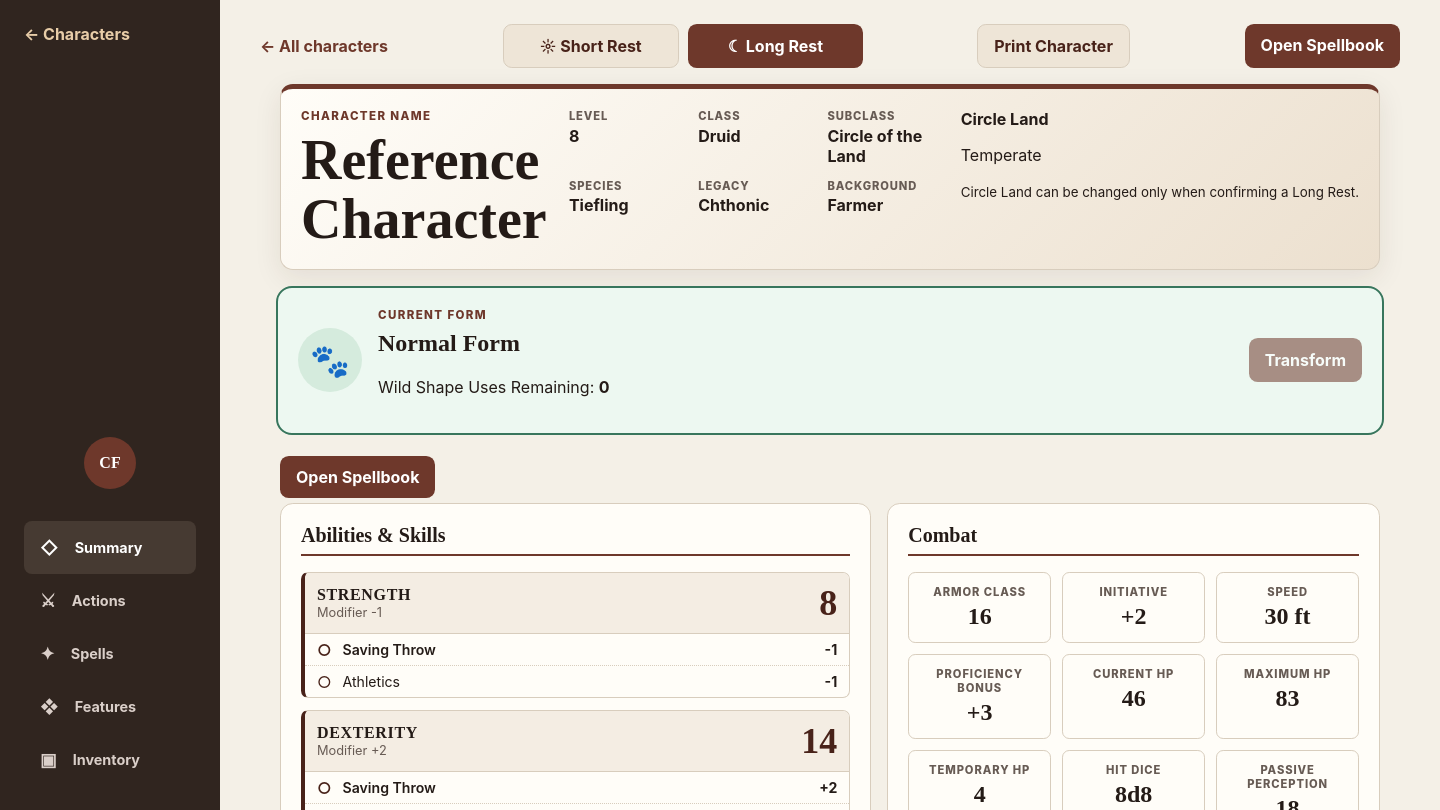
Test: short rest opens preview and supports undo
Click the button "☼ Short Rest" at x=591, y=46, box [502,24,679,68]
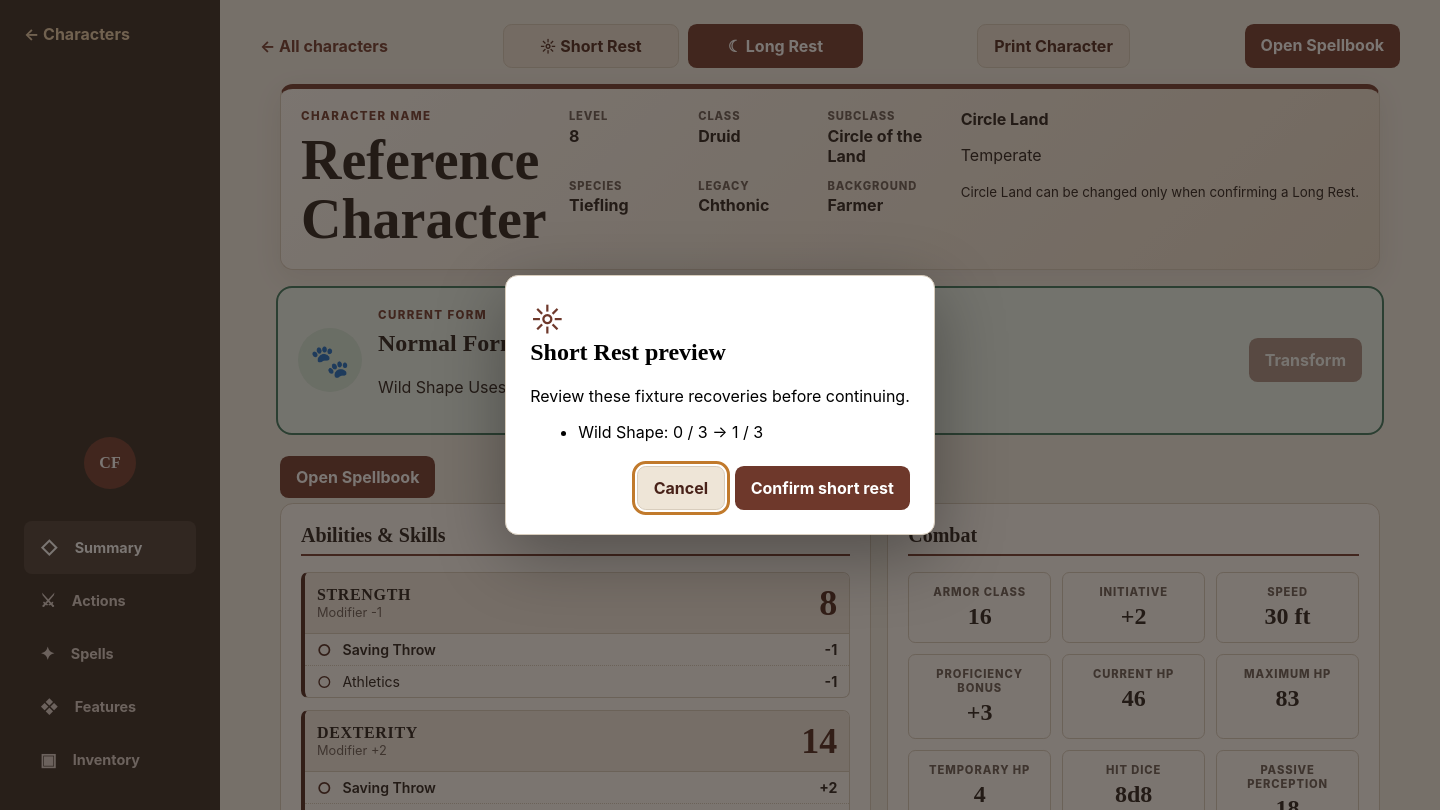
Result: the dialog shows "Short Rest preview" at [530,339,726,365]
Click the button "Confirm short rest" at x=822, y=488, box [735,466,910,510]
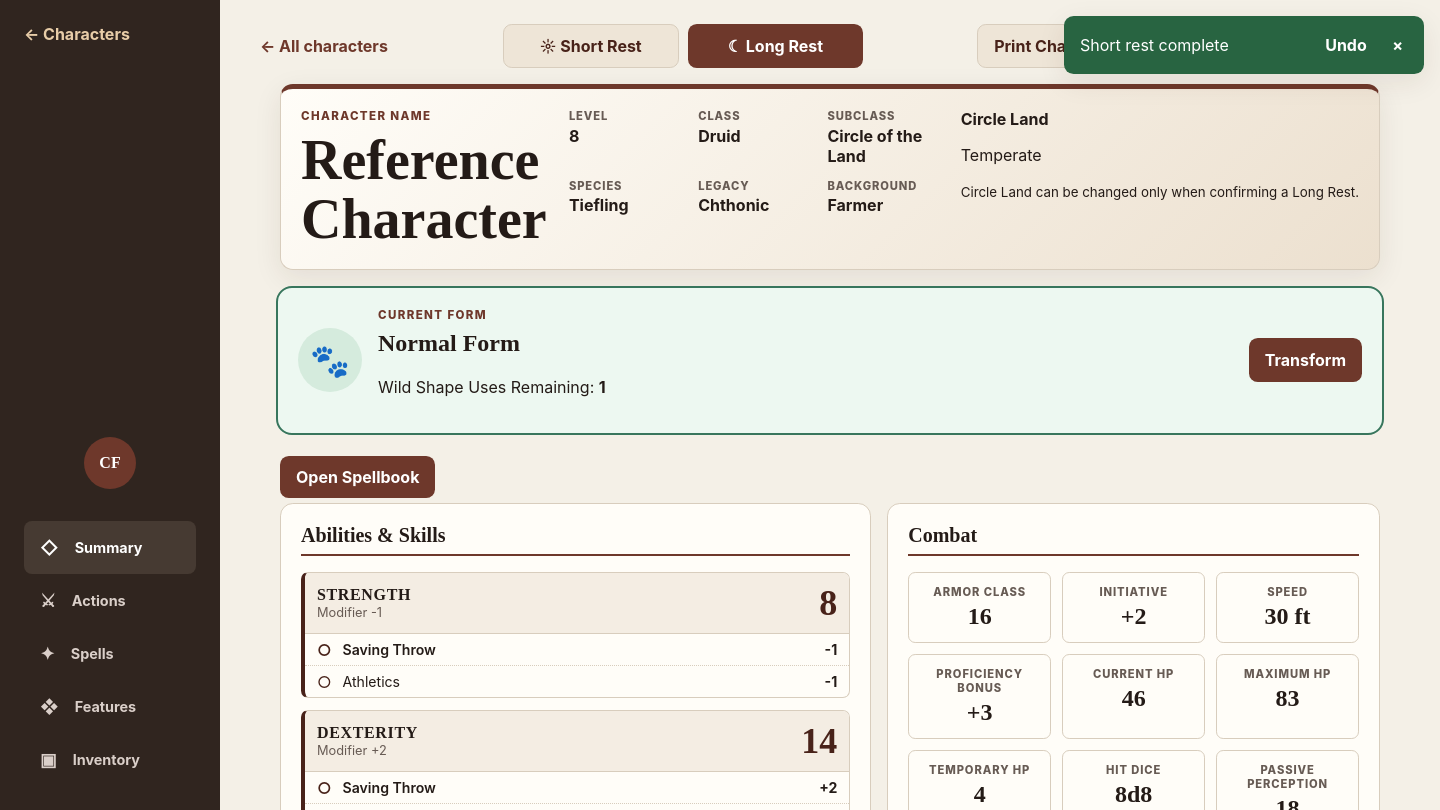
Result: the message shows "complete" at [1080,35,1229,55]
Click the button "Undo" at x=1346, y=45, box [1320,27,1372,63]
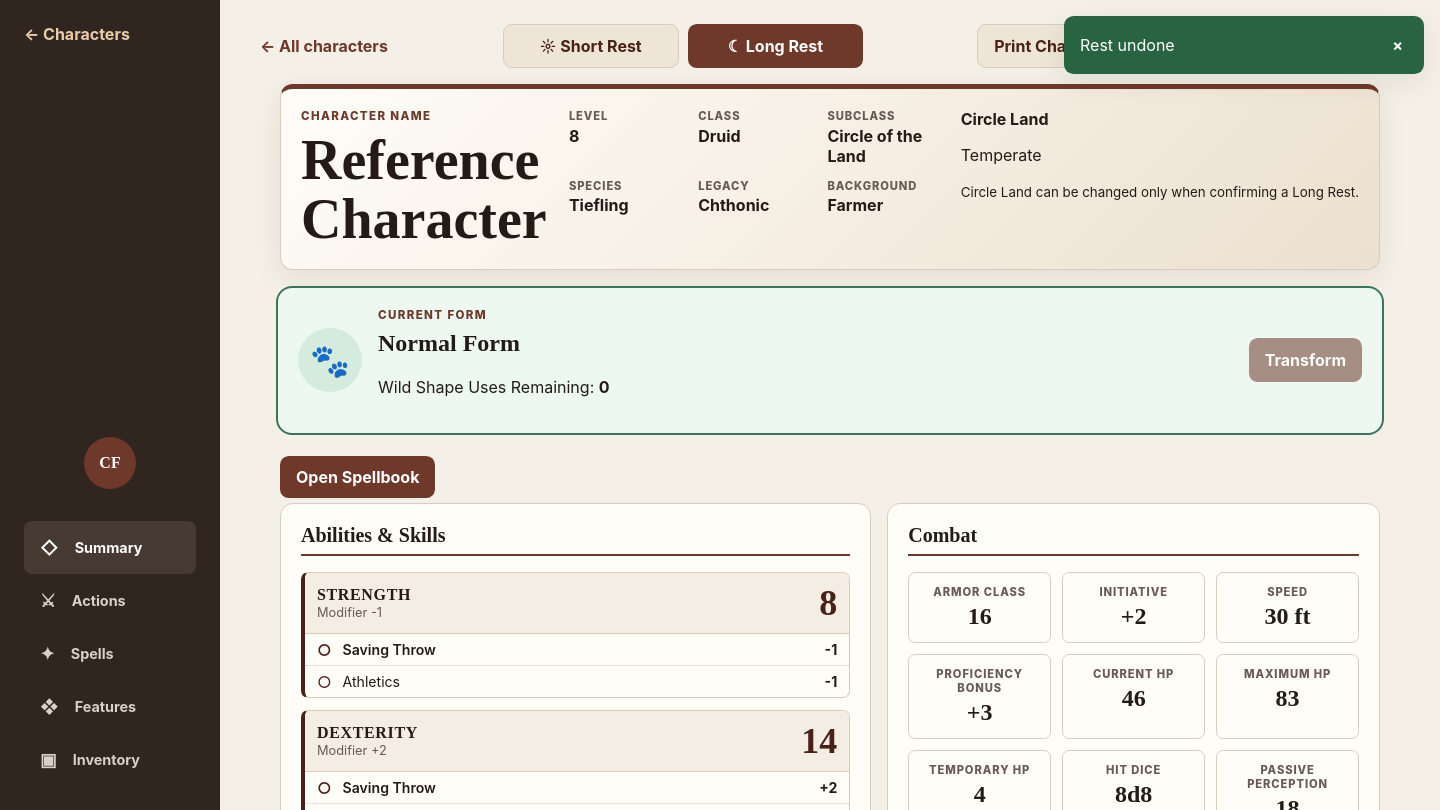
Result: the message shows "undone" at [1080,35,1175,55]
